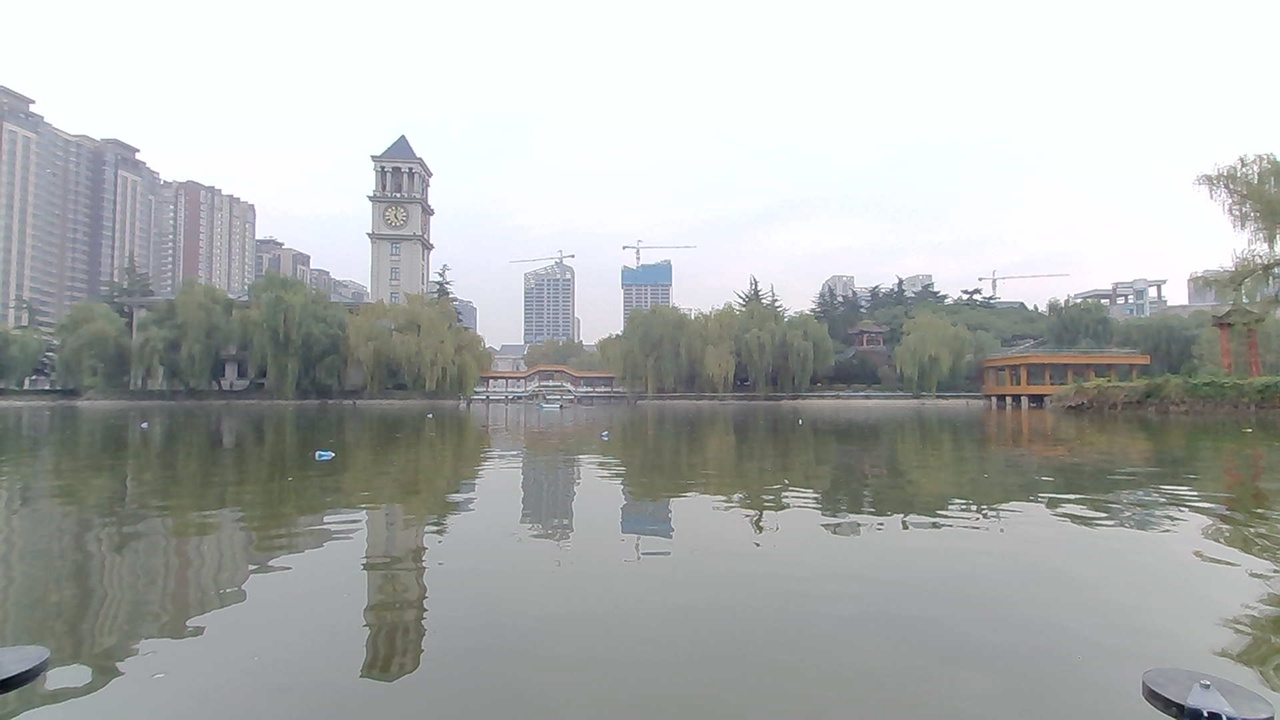bottle: (584, 422, 618, 449), (130, 415, 168, 439), (789, 406, 819, 432), (307, 448, 344, 469), (417, 403, 446, 425)
